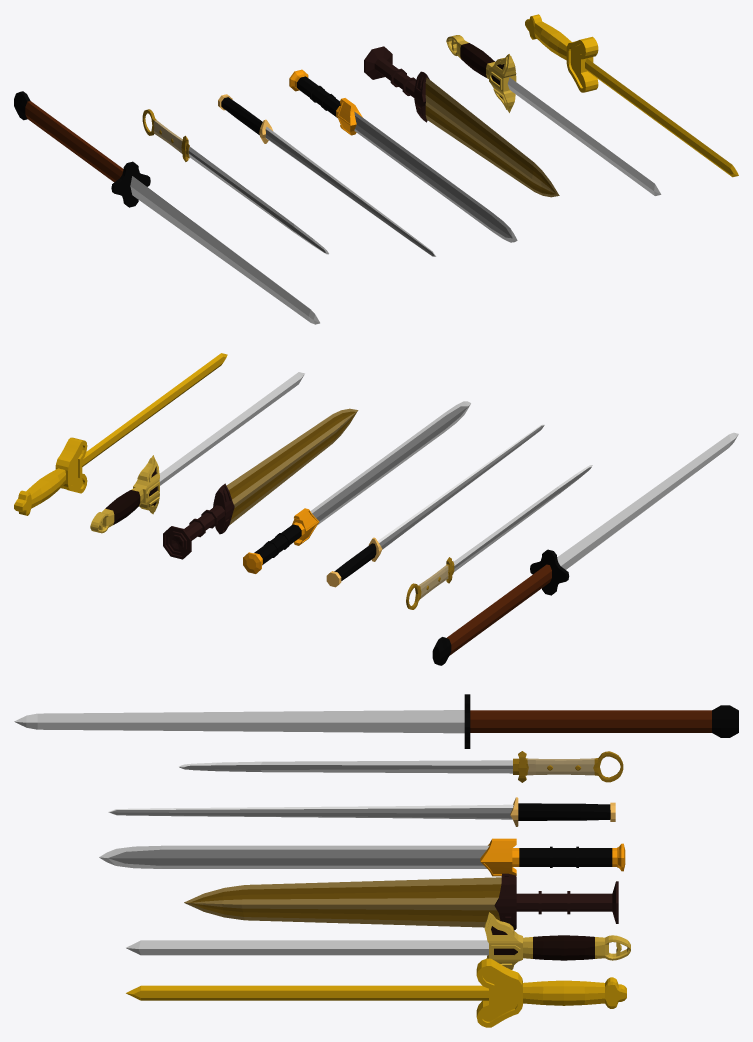
The model's file is 中式剑合集包1(Chinese Sword Pack 1).fbx.
3 views of the same model, one above another, from view 1: azimuth 30°, elevation 25°; view 2: azimuth 150°, elevation 25°; view 3: azimuth 270°, elevation 25° (orthographic). The views are drawn at different scales.
Parts seen in each view (by area): view 1: 剑6, 剑2, 剑3, 木剑, 剑1, 剑4, 剑5; view 2: 剑6, 剑2, 剑3, 木剑, 剑1, 剑4, 剑5; view 3: 剑6, 剑2, 剑3, 木剑, 剑1, 剑4, 剑5.
Boxes of the visible parts, <box> form: 剑6: <box>14,91,319,324</box>; 剑2: <box>364,46,559,197</box>; 剑3: <box>289,69,517,242</box>; 木剑: <box>525,14,738,177</box>; 剑1: <box>446,35,661,195</box>; 剑4: <box>218,94,436,256</box>; 剑5: <box>142,109,328,254</box>; 剑6: <box>432,432,738,665</box>; 剑2: <box>163,408,358,559</box>; 剑3: <box>243,401,470,573</box>; 木剑: <box>14,353,227,515</box>; 剑1: <box>90,372,304,533</box>; 剑4: <box>326,424,544,587</box>; 剑5: <box>406,465,592,609</box>; 剑6: <box>14,694,738,748</box>; 剑2: <box>184,873,618,930</box>; 剑3: <box>99,838,625,876</box>; 木剑: <box>126,958,626,1027</box>; 剑1: <box>126,912,630,969</box>; 剑4: <box>108,797,615,826</box>; 剑5: <box>179,751,623,782</box>.
Size of the model in its own units: 1266 by 148 by 1354.
